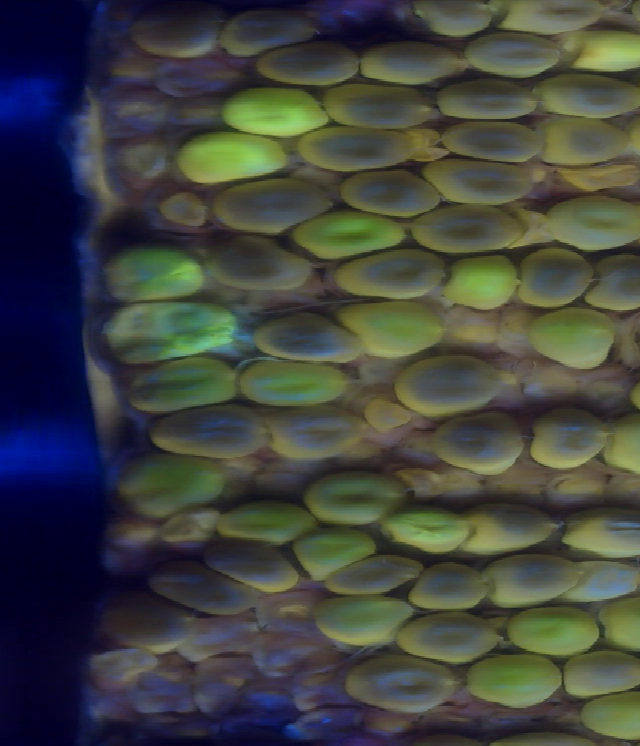fluorescent: (106, 304, 237, 357), (113, 456, 229, 515), (136, 358, 241, 413), (174, 134, 290, 183), (340, 300, 443, 355), (219, 87, 328, 137), (310, 594, 412, 646), (462, 656, 562, 709), (303, 474, 397, 530), (292, 209, 407, 254), (240, 359, 347, 406), (104, 251, 204, 300), (531, 310, 613, 368), (445, 256, 521, 313), (386, 507, 467, 558), (222, 502, 323, 542), (294, 526, 372, 577), (507, 608, 597, 652), (578, 692, 640, 742), (566, 32, 640, 72), (595, 598, 640, 641), (607, 414, 640, 471)
nonfluorescent: (347, 655, 458, 715), (290, 125, 413, 175), (154, 406, 267, 460), (392, 357, 507, 410), (414, 205, 534, 254), (151, 561, 253, 618), (261, 310, 363, 365), (431, 413, 521, 475), (214, 232, 311, 289), (206, 538, 297, 597), (324, 77, 426, 129), (264, 407, 366, 457), (519, 245, 597, 310), (213, 184, 328, 228), (358, 40, 464, 86), (402, 609, 499, 659), (104, 590, 186, 649), (538, 72, 640, 119), (130, 6, 220, 58), (336, 255, 446, 297), (258, 41, 360, 86), (430, 157, 529, 203), (335, 170, 438, 214), (531, 410, 606, 470), (464, 505, 559, 552), (440, 79, 539, 124), (459, 33, 564, 75), (216, 14, 316, 58), (543, 118, 626, 169), (486, 552, 579, 597), (445, 123, 540, 163), (561, 507, 640, 555), (408, 563, 486, 611), (560, 653, 640, 699), (326, 556, 420, 593), (590, 258, 640, 310)
